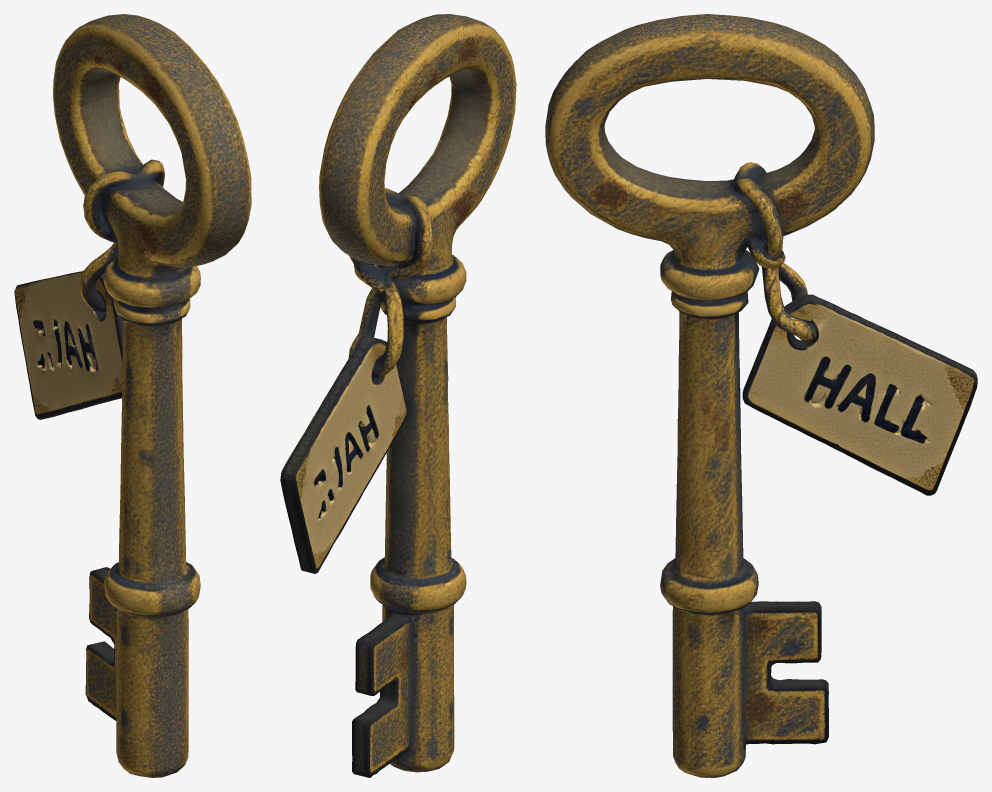
Rendered from KeyHall.fbx.
3 views of the same model, side by side, from view 1: azimuth 30°, elevation 25°; view 2: azimuth 150°, elevation 25°; view 3: azimuth 270°, elevation 25° (orthographic). The views are drawn at different scales.
Visible parts, largest first — view 1: tripo_node_7c7c8da2-49e6-40f2-b382-f915d1a4abce; view 2: tripo_node_7c7c8da2-49e6-40f2-b382-f915d1a4abce; view 3: tripo_node_7c7c8da2-49e6-40f2-b382-f915d1a4abce.
Boxes of the visible parts, box(x1,y1,x2,y2) form: tripo_node_7c7c8da2-49e6-40f2-b382-f915d1a4abce: box(14, 14, 251, 777); tripo_node_7c7c8da2-49e6-40f2-b382-f915d1a4abce: box(280, 14, 516, 777); tripo_node_7c7c8da2-49e6-40f2-b382-f915d1a4abce: box(545, 14, 977, 777).
Size of the model in its own units: 11.91 by 100 by 52.21.
Materials: 1 (1 with a texture image).
